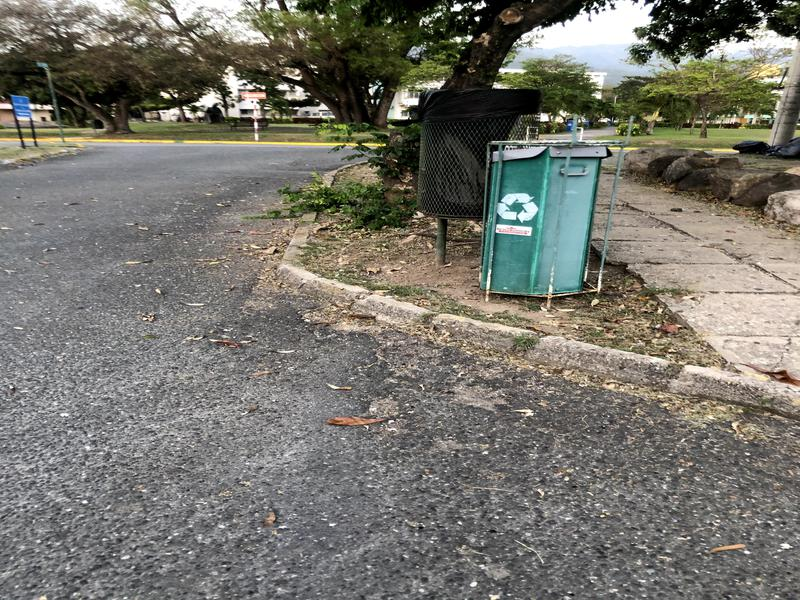18.0053245_-76.7486424_recyclebin: (477, 130, 618, 311)
